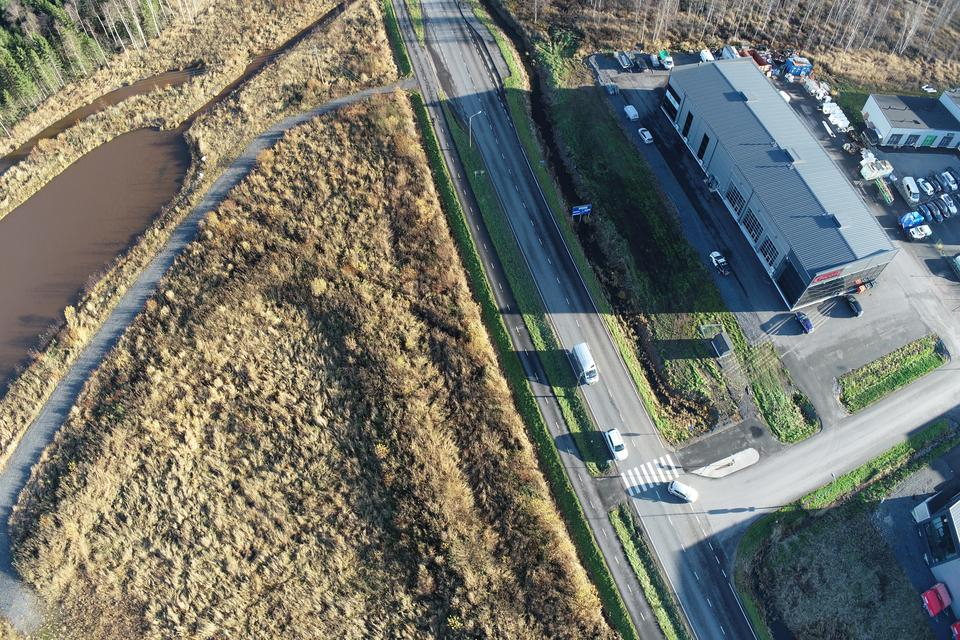intersection: (530, 418, 805, 583), (378, 59, 524, 119)
